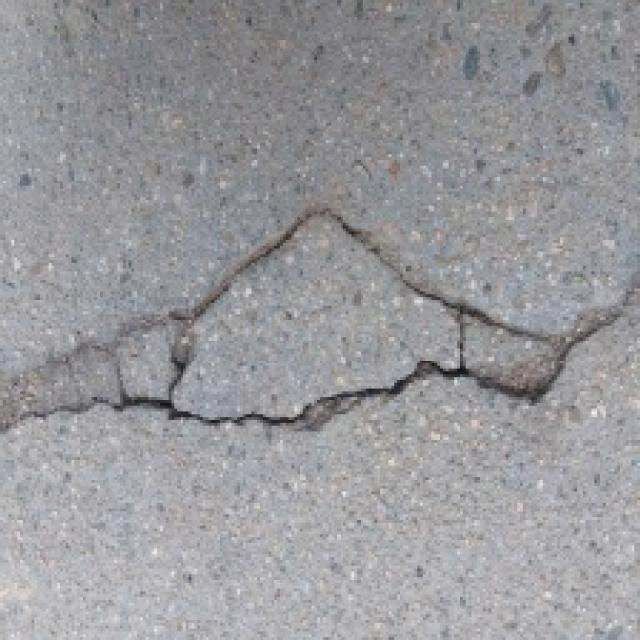crack: (0, 196, 640, 456)
